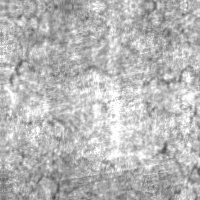crazing: (3, 56, 197, 143), (7, 143, 199, 199)
